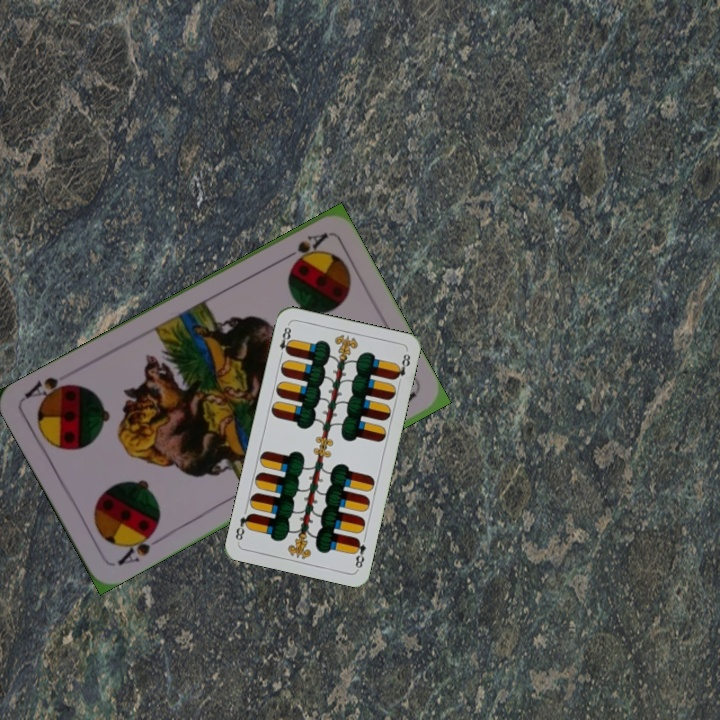E8: (275, 321, 295, 361), (349, 534, 369, 572)
SA: (113, 524, 165, 568), (275, 228, 330, 269)
